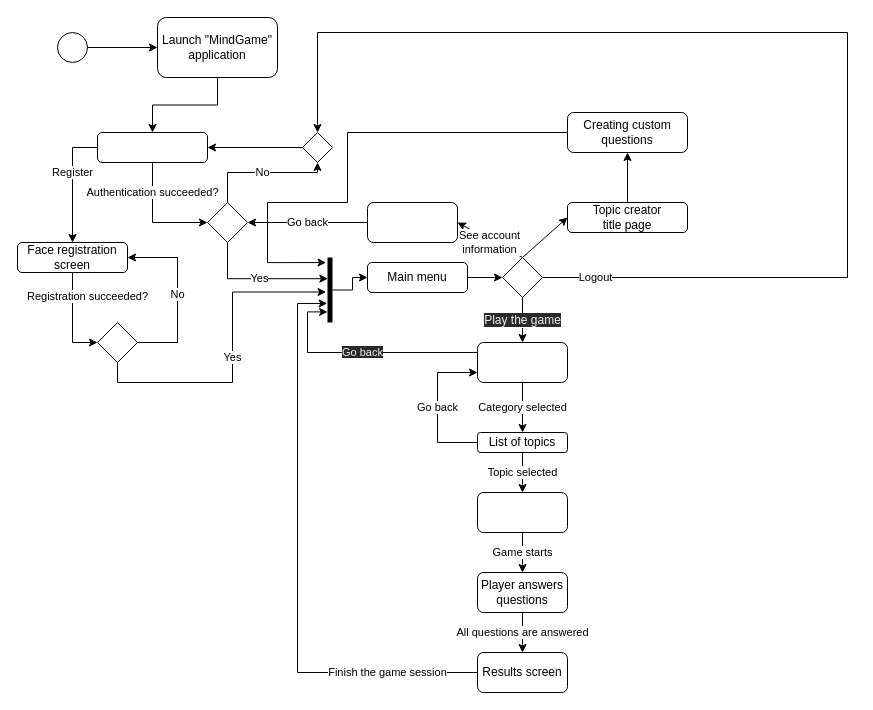
Some shapes in this 873 by 710 pixel diagram are drawn without their labels. Here are the shapes that lost their labels. From the top down, the box of each, then its label:
(96, 132, 208, 162): Face login screen
(366, 202, 458, 242): Account information
(476, 342, 568, 382): List of categories
(476, 492, 568, 532): Topic's info page
